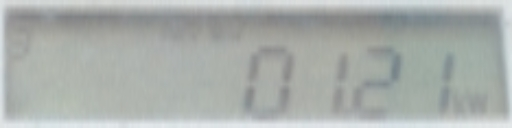0: (220, 43, 301, 128)
1: (330, 45, 347, 119), (438, 47, 454, 118)
2: (353, 43, 406, 121)
d: (342, 106, 354, 119)
